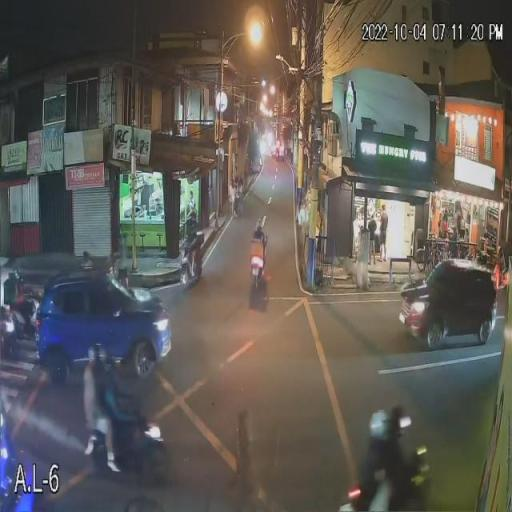helmet: (388, 402, 414, 430), (367, 414, 393, 432), (104, 350, 116, 373), (87, 350, 99, 370), (12, 268, 24, 287), (254, 222, 264, 232)
motorcycle: (84, 410, 166, 482), (340, 449, 432, 512), (4, 295, 42, 337), (244, 251, 278, 280)
rider: (362, 408, 395, 490), (383, 400, 417, 468), (98, 345, 124, 417), (86, 346, 104, 436), (8, 263, 28, 311), (252, 222, 268, 254)
